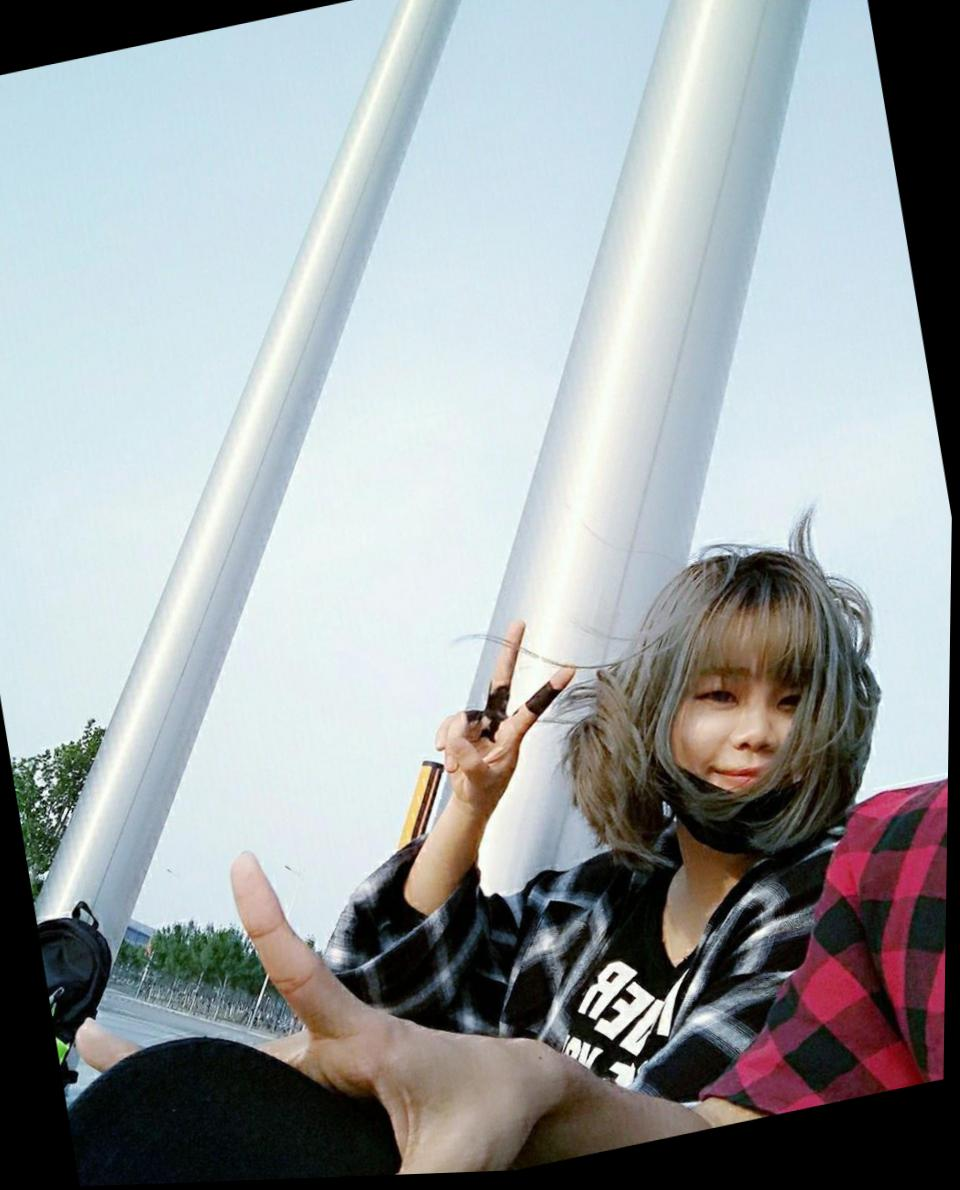WRONG: (647, 632, 858, 864)
